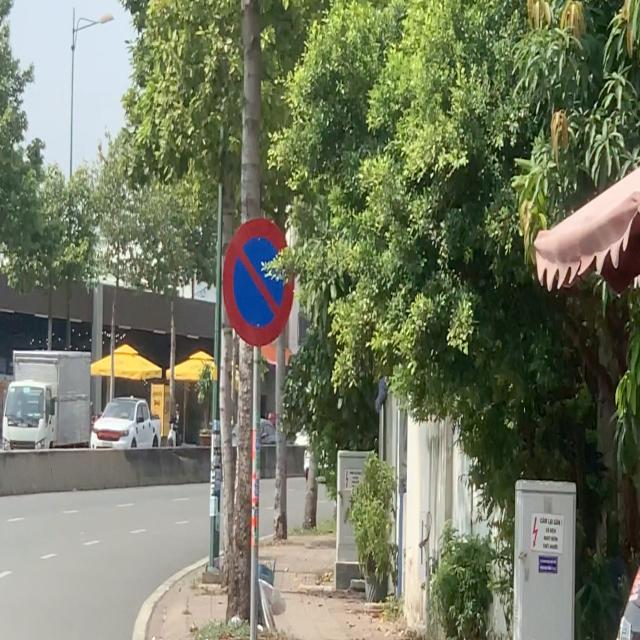Cam do: (218, 218, 298, 350)
